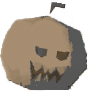angrypumpkin: (1, 1, 89, 92)
